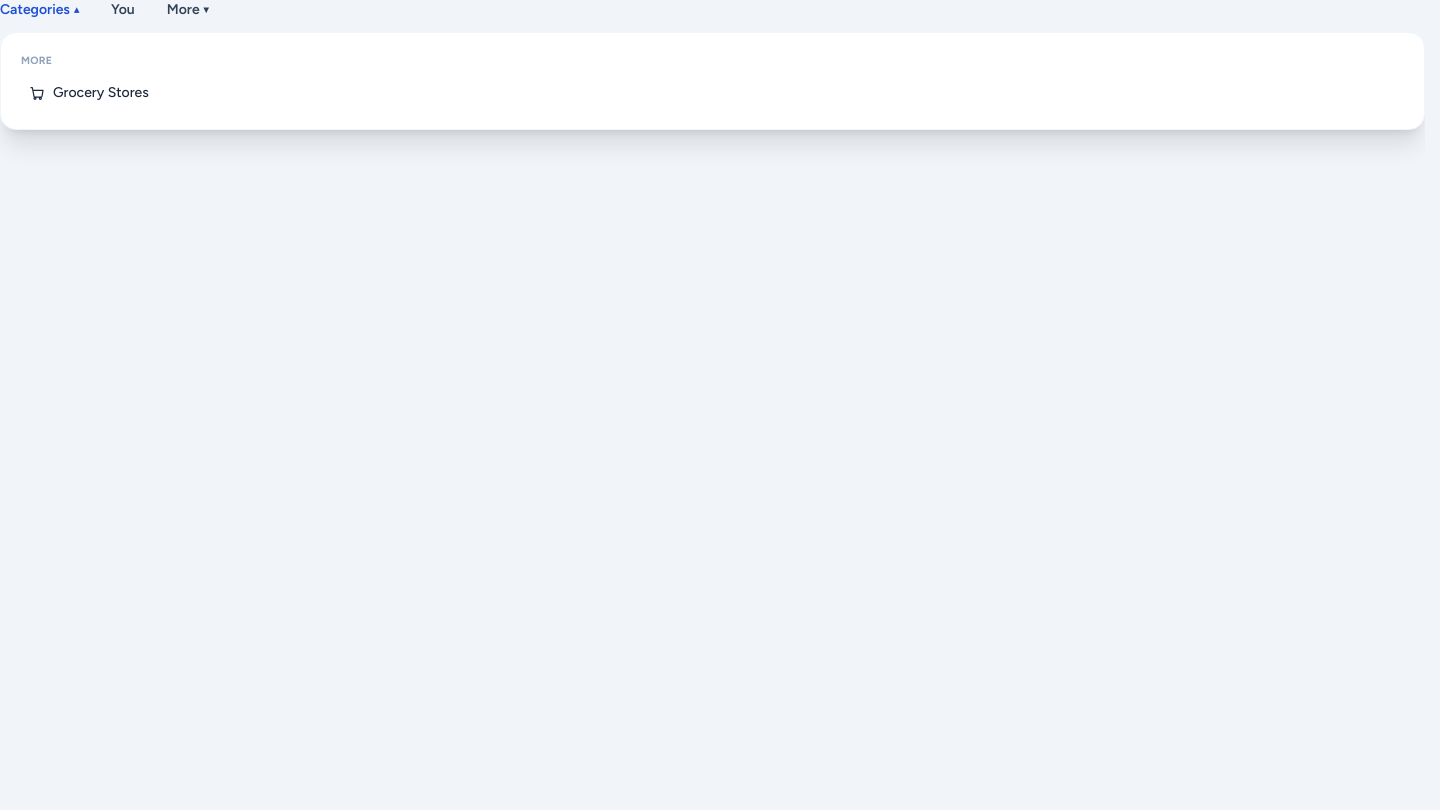
Test: HeaderNav — More › offers About and Privacy as real links, and opens feedback as an in-place modal
Click the button "More ▾": (188, 10) [167,0,209,20]
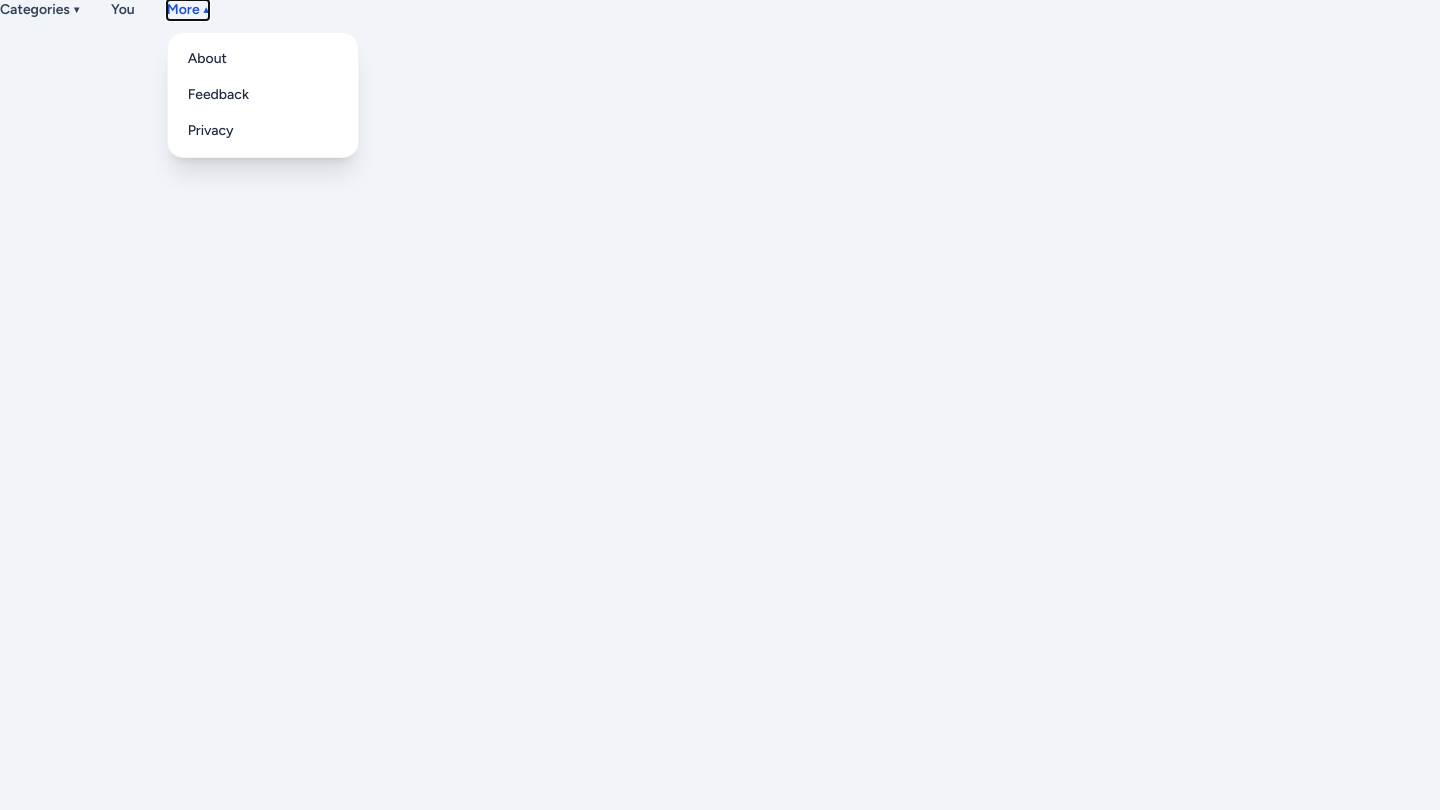
Expected: the heading "Send feedback" is not shown
Click the button "Feedback": (263, 95) [176,77,350,113]
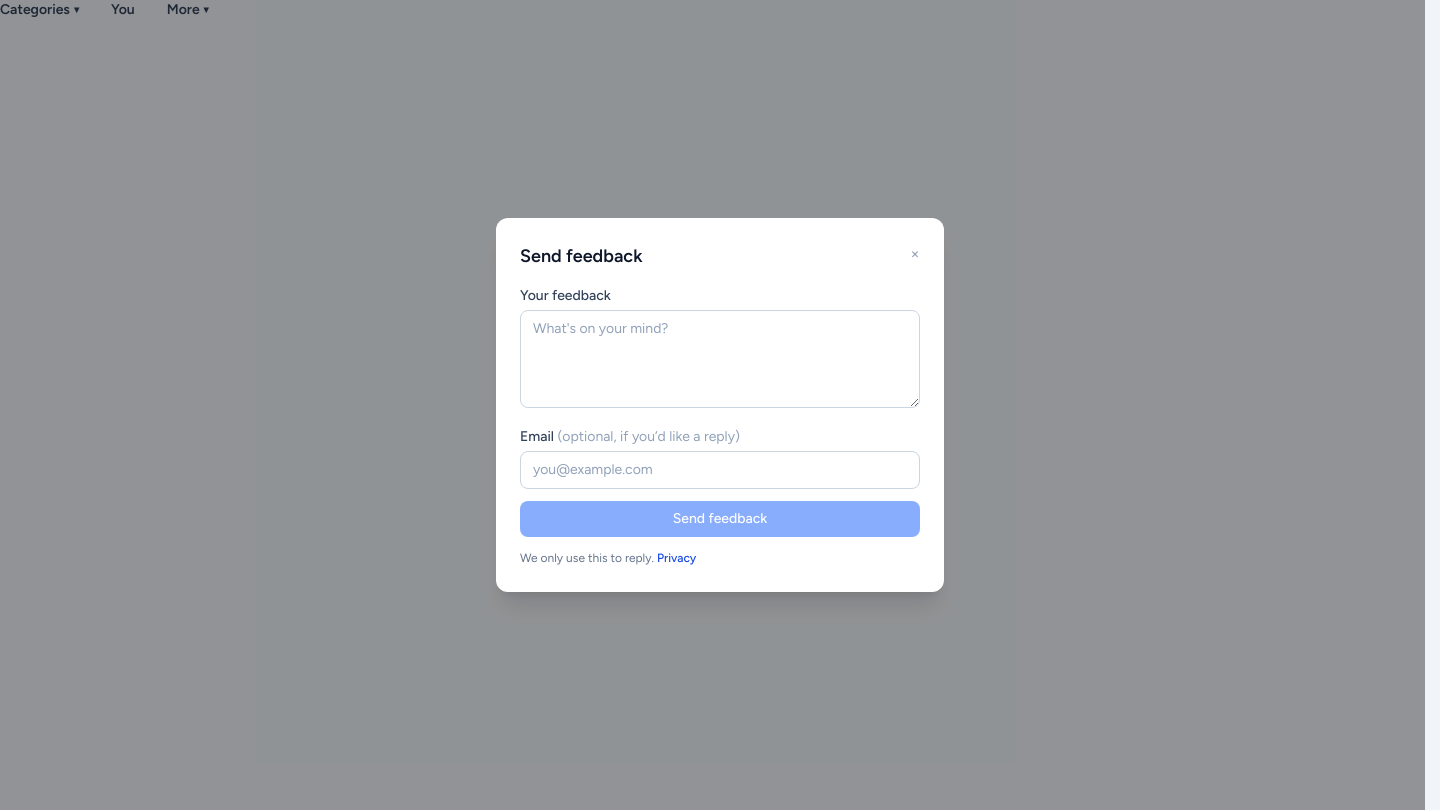
Expected: the heading "Send feedback" is shown, [520,242,642,270]
